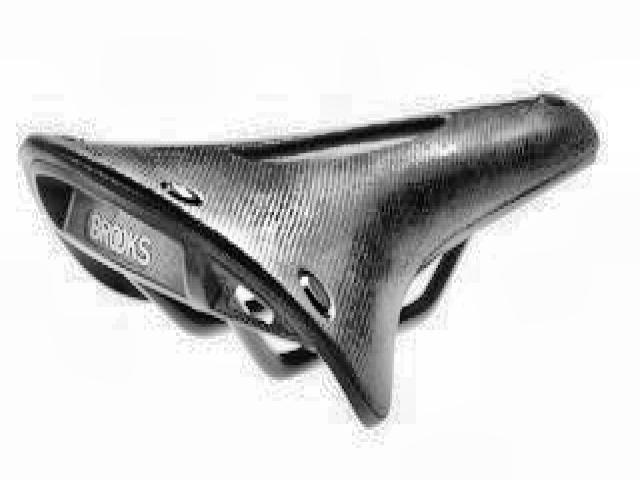saddle: (17, 89, 602, 434)
